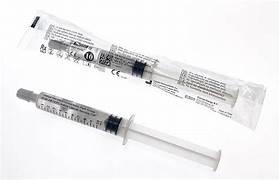Syringe: (19, 12, 264, 128), (17, 89, 220, 169)
